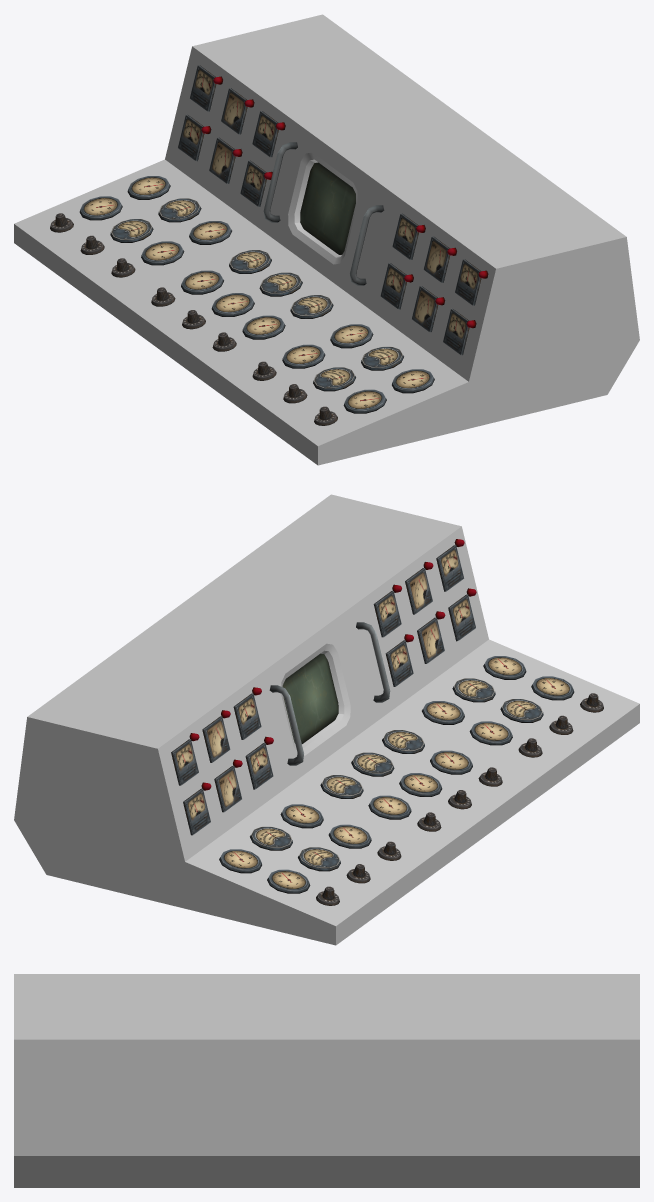
The model's file is ctrlPanel_middle02_A.FBX.
3 views of the same model, one above another, from view 1: azimuth 30°, elevation 25°; view 2: azimuth 150°, elevation 25°; view 3: azimuth 270°, elevation 25° (orthographic). The views are drawn at different scales.
Parts seen in each view (by area): view 1: ctrlPanel_middle02_A, ctrlPanel_gauges, screen_computer01, ctrlPanel_buttons; view 2: ctrlPanel_middle02_A, ctrlPanel_gauges, screen_computer01, ctrlPanel_buttons; view 3: ctrlPanel_middle02_A.
Boxes of the visible parts, left/top/right/bottom form: ctrlPanel_middle02_A: left=14, top=14, right=639, bottom=465; ctrlPanel_gauges: left=79, top=65, right=481, bottom=413; screen_computer01: left=300, top=162, right=355, bottom=254; ctrlPanel_buttons: left=201, top=76, right=488, bottom=328; ctrlPanel_middle02_A: left=14, top=494, right=639, bottom=945; ctrlPanel_gauges: left=171, top=545, right=574, bottom=893; screen_computer01: left=282, top=653, right=338, bottom=743; ctrlPanel_buttons: left=189, top=539, right=476, bottom=790; ctrlPanel_middle02_A: left=14, top=974, right=639, bottom=1187.
Size of the model in its own units: 122 by 55.64 by 200.
